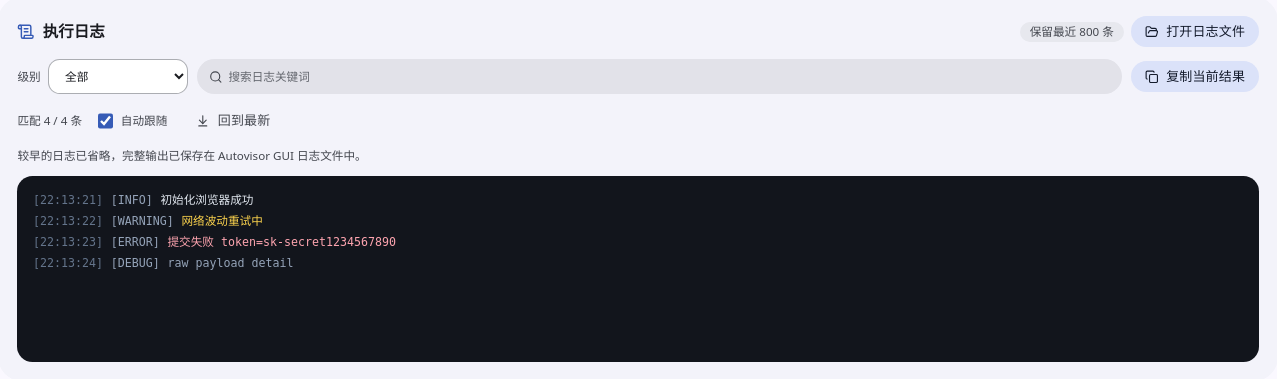
ExecutionLog › filters by level and search query, and opens log file
Later steps or results of the test are not shown.
Expected: the text "匹配 4 / 4 条" is shown, top-left (17, 113), bottom-right (82, 129)
Expected: the text "较早的日志已省略，完整输出已保存在 Autovisor GUI 日志文件中。" is shown, top-left (17, 148), bottom-right (367, 163)
Select "错误与警告" in the dropdown named "日志级别" at (118, 77), box top-left (48, 59), bottom-right (188, 94)
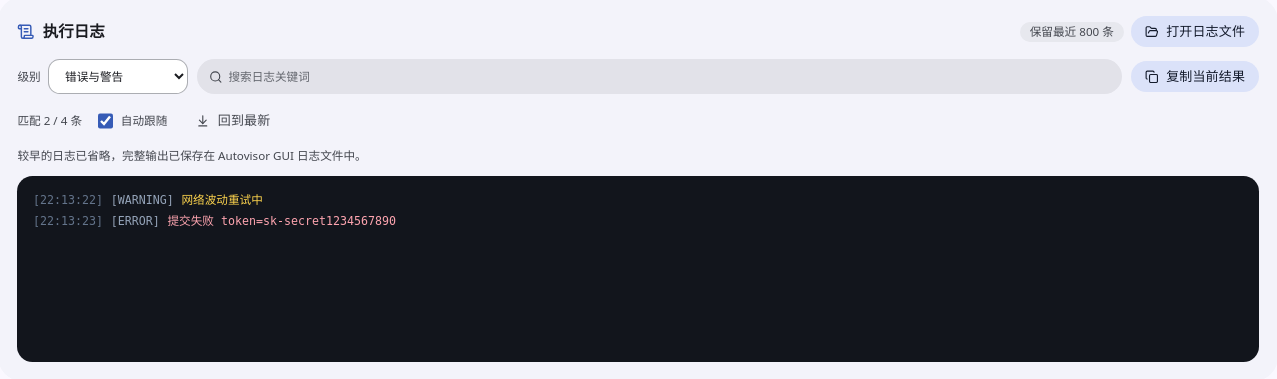
Result: the text "匹配 2 / 4 条" is shown at top-left (17, 113), bottom-right (82, 129)
Result: the text "初始化浏览器成功" is gone
Type "波动" into the search field labelled "搜索日志" at (660, 77), box top-left (197, 59), bottom-right (1122, 94)
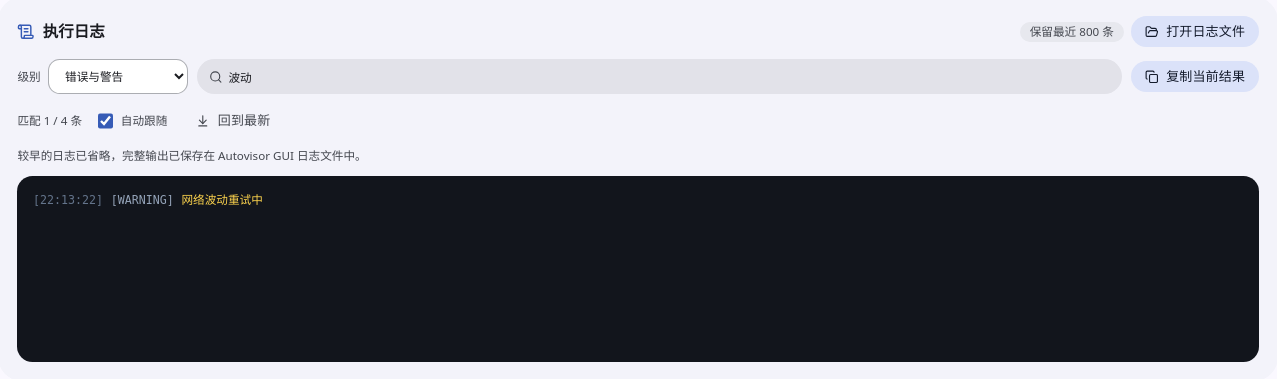
Expected: the text "网络波动重试中" is shown, top-left (181, 193), bottom-right (263, 207)
Result: the text "匹配 1 / 4 条" is shown at top-left (17, 113), bottom-right (82, 129)
